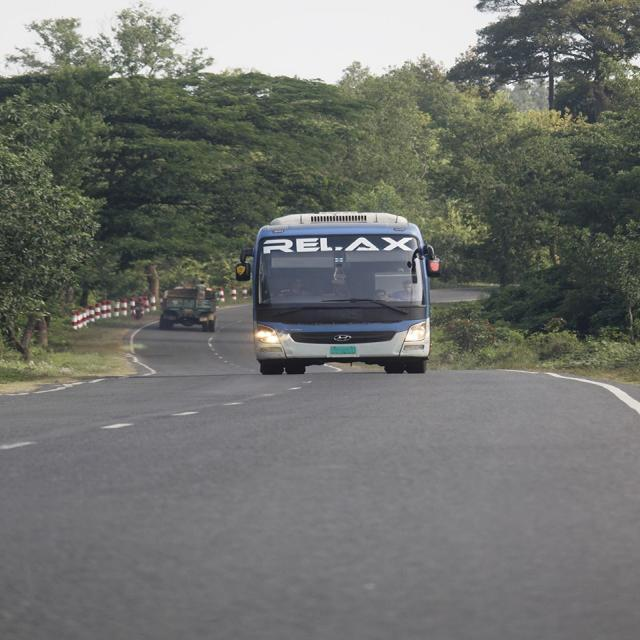bus: (233, 210, 440, 377)
